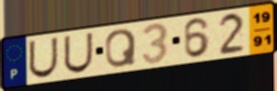2: (218, 10, 246, 56)
3: (141, 21, 171, 66)
6: (182, 16, 212, 61)
Q: (104, 28, 138, 70)
U: (63, 31, 95, 75), (28, 36, 60, 80)
